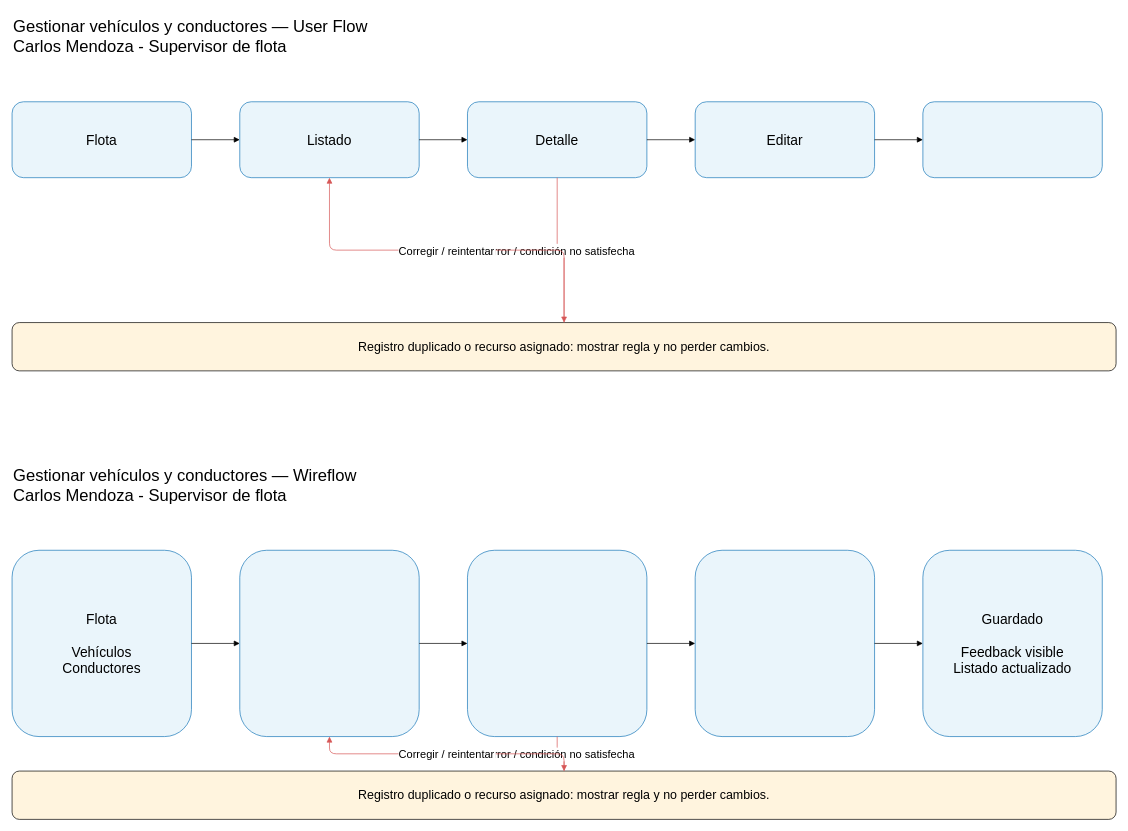
The diagram is 1128 pixels wide and 831 high, and some of its shapes have lost their labels. The box of each missing label's shape, as (x1, y1, x2, y2) in pixels:
Detalle Datos operativos Asignaciones: (467, 550, 647, 737)
Editar Actualiza campos Valida reglas: (694, 550, 875, 737)
Guardado: (922, 101, 1102, 178)
Listado Busca y filtra Consulta disponibilidad: (239, 550, 419, 737)
